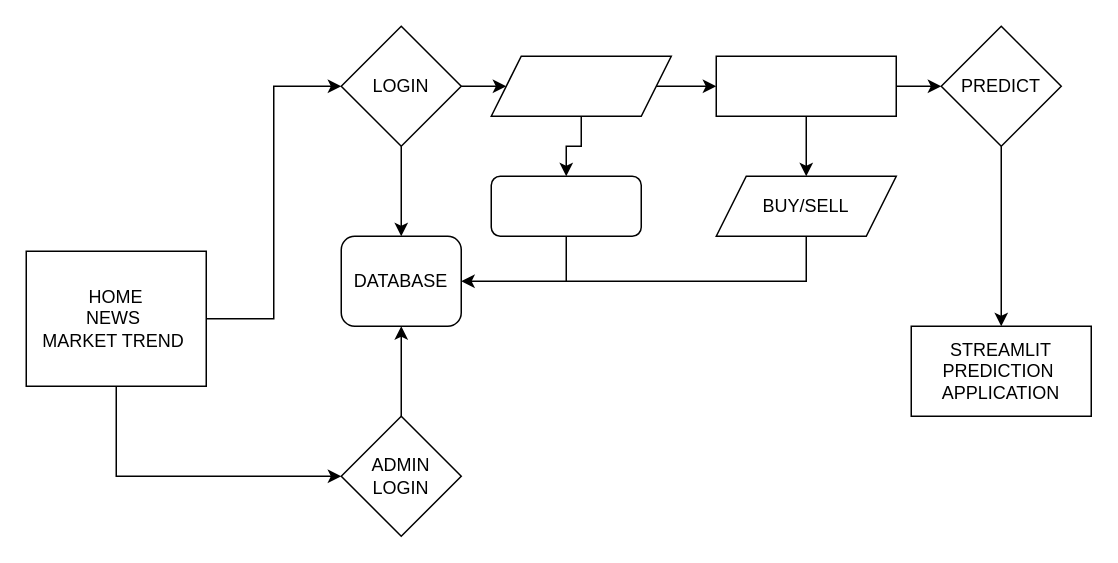
Some shapes in this 1118 by 563 pixel diagram are drawn without their labels. The shapes that lost their labels are listed below. From the top down, each one's centre as x and y in pixels, then its label:
At [580,85]: "SELECT STOCK".
At [805,85]: "STOCK ANALYSIS".
At [565,205]: "VIEW PROTFOLIO".
